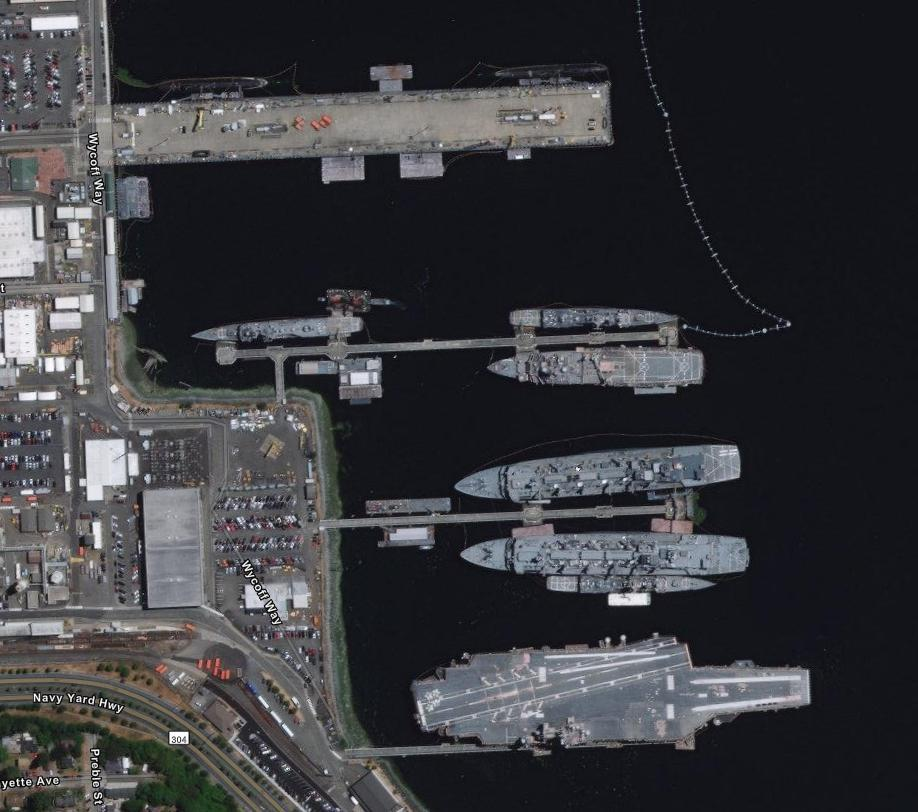carrier: (379, 626, 839, 757)
submarine: (483, 48, 622, 88), (143, 63, 279, 97)
tender: (427, 415, 766, 512), (461, 528, 759, 581)
